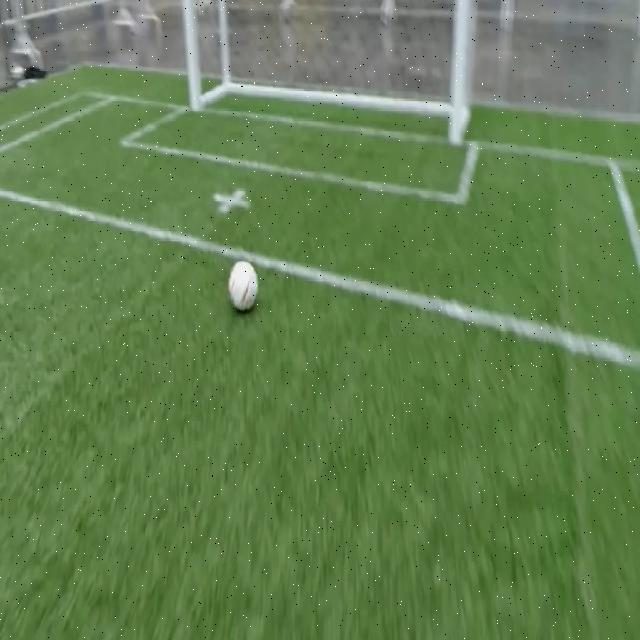ball: (228, 262, 258, 311)
goalpost: (446, 102, 468, 149), (188, 74, 205, 117)
